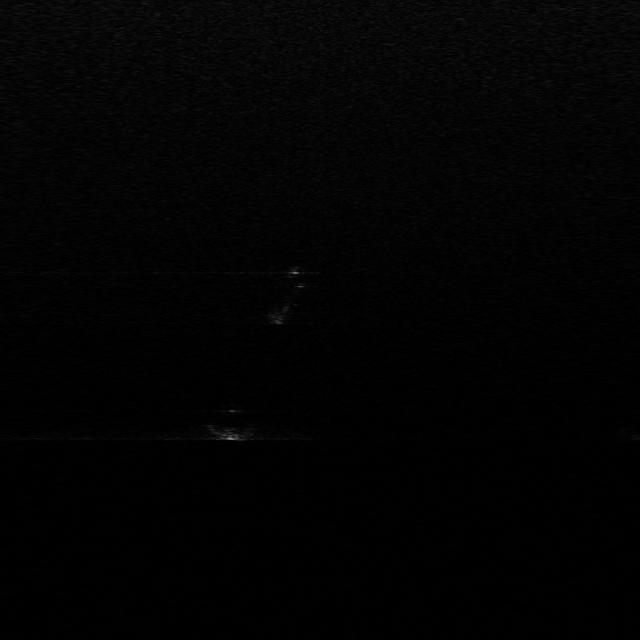ball: (204, 403, 258, 440)
tyre: (267, 264, 312, 325)
